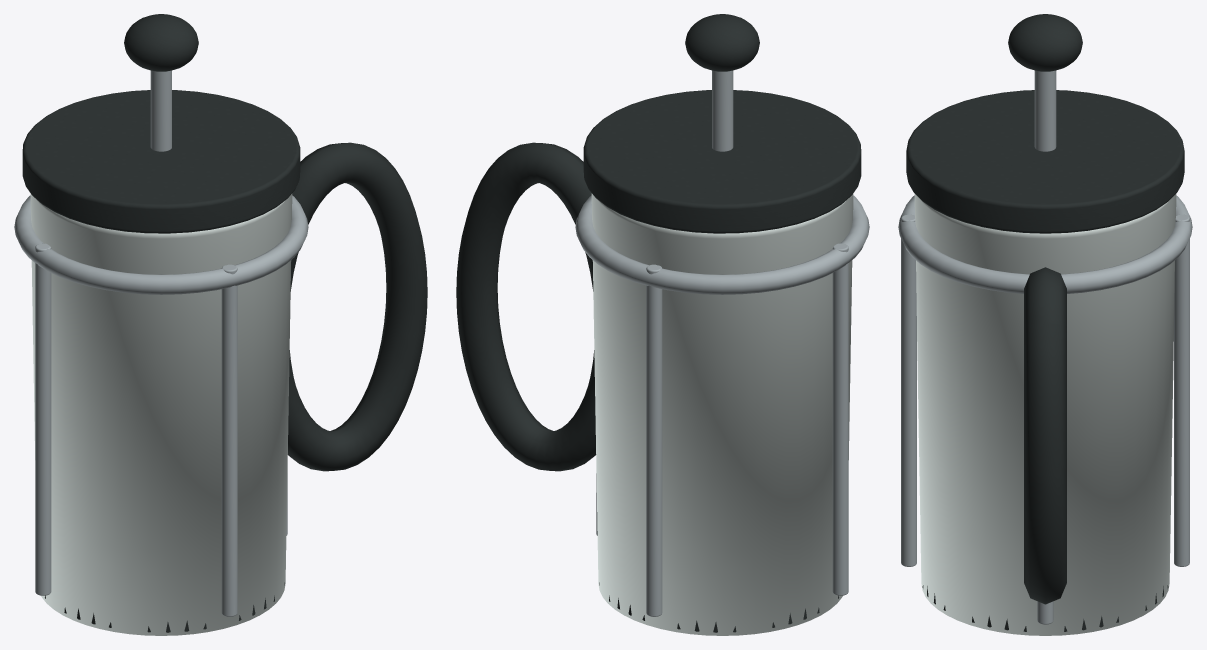
File: french-press.glb
3 views of the same model, side by side, from view 1: azimuth 30°, elevation 25°; view 2: azimuth 150°, elevation 25°; view 3: azimuth 270°, elevation 25° (orthographic).
Visible parts, largest first — view 1: Clear coffee vessel, Fitted coffee lid, Coffee vessel handle, Press upper band, Press protective cage.003, Press protective cage.002, Plunger palm knob, Press plunger rod; view 2: Clear coffee vessel, Fitted coffee lid, Coffee vessel handle, Press upper band, Press protective cage.001, Press protective cage.002, Plunger palm knob, Press plunger rod; view 3: Clear coffee vessel, Fitted coffee lid, Coffee vessel handle, Press upper band, Press protective cage.001, Press protective cage.003, Plunger palm knob, Press plunger rod.
Part boxes in pixels (x1,y1,x2,y2): Clear coffee vessel: (30, 193, 292, 635); Fitted coffee lid: (22, 90, 300, 233); Coffee vessel handle: (287, 142, 427, 471); Press upper band: (14, 195, 308, 294); Press protective cage.003: (221, 264, 237, 616); Press protective cage.002: (35, 243, 51, 595); Plunger palm knob: (124, 14, 198, 71); Press plunger rod: (150, 70, 171, 151); Clear coffee vessel: (591, 193, 853, 635); Fitted coffee lid: (583, 90, 861, 233); Coffee vessel handle: (456, 142, 596, 471); Press upper band: (575, 195, 869, 294); Press protective cage.001: (646, 264, 662, 616); Press protective cage.002: (832, 243, 848, 595); Plunger palm knob: (685, 14, 759, 71); Press plunger rod: (712, 70, 733, 151); Clear coffee vessel: (914, 194, 1176, 635); Fitted coffee lid: (906, 90, 1184, 233); Coffee vessel handle: (1024, 267, 1066, 604); Press upper band: (898, 195, 1192, 293); Press protective cage.001: (1174, 214, 1189, 566); Press protective cage.003: (901, 214, 916, 566); Plunger palm knob: (1008, 14, 1082, 71); Press plunger rod: (1034, 70, 1056, 151).
Size of the model in its own units: 0.169 by 0.233 by 0.11.
Materials: 4 (4 with a texture image).
